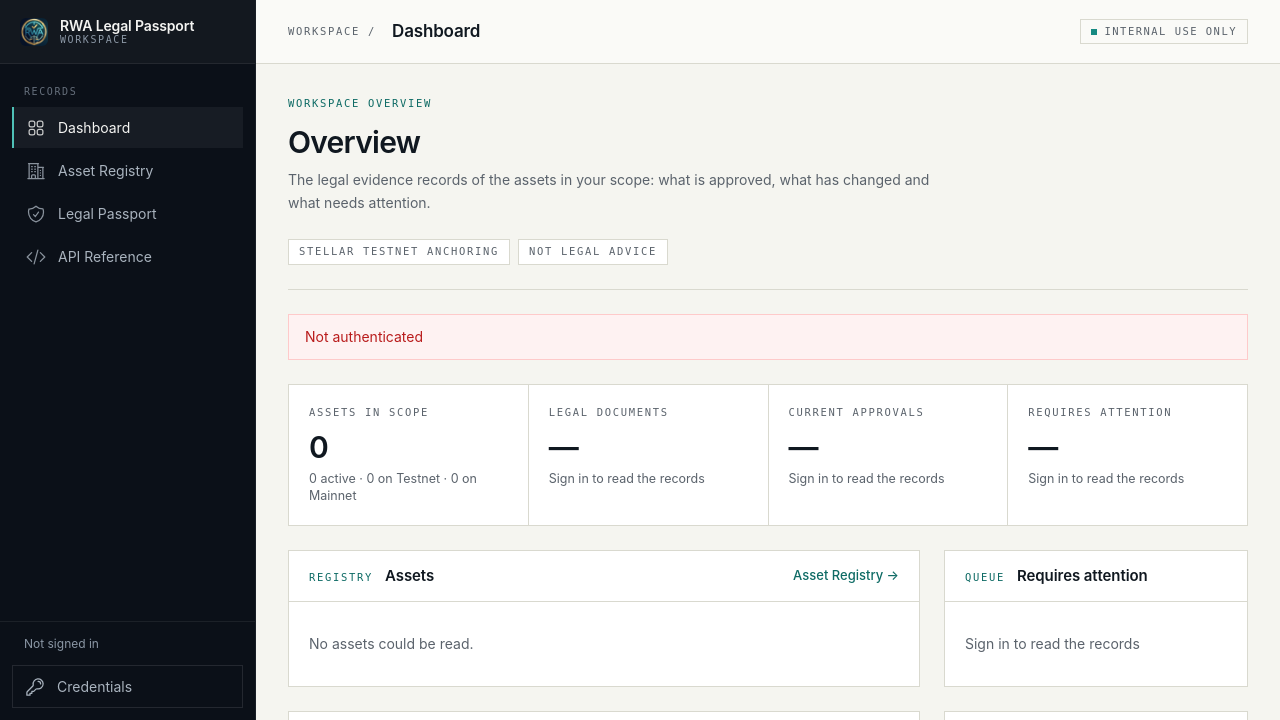
Scenario: Authorization state › the dashboard reloads when a credential is entered, without navigating
Check: the message "Not authenticated" is shown, box [288,314,1248,360]
Step 1. Click the button "Credentials" → {"x": 128, "y": 686}, box [12,665,243,708]
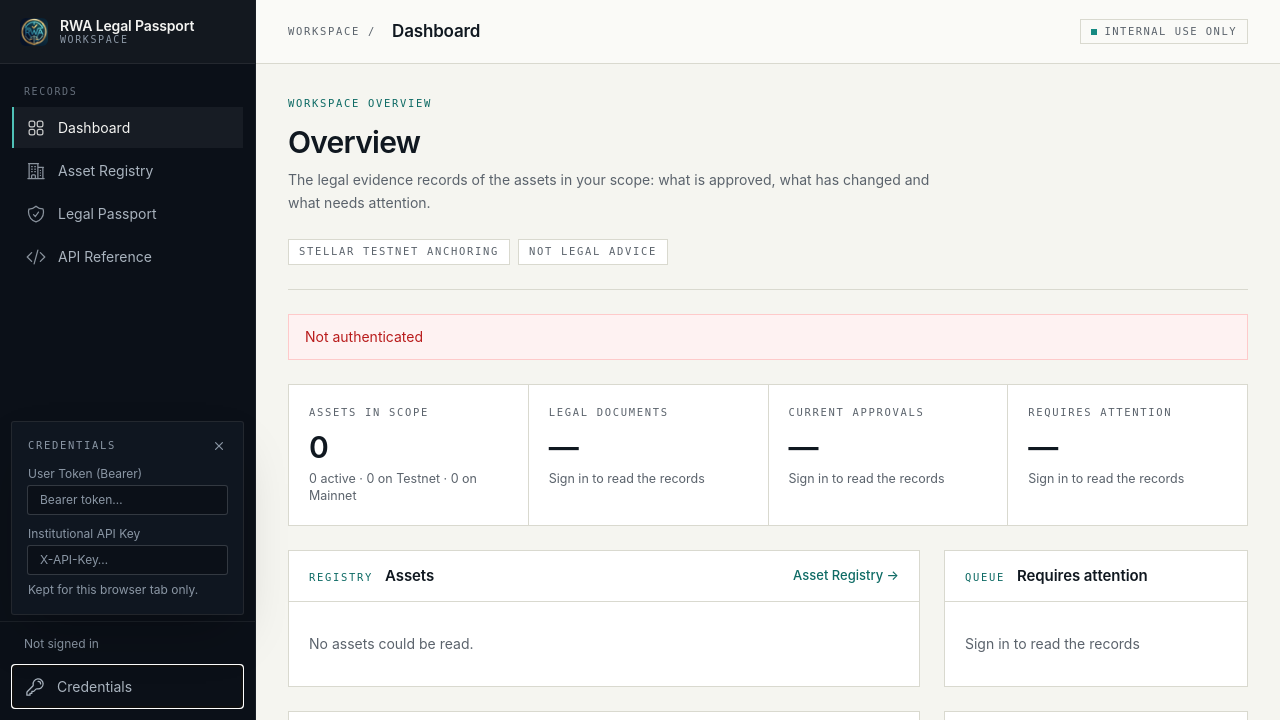
Step 2. Type "fictional-token" into the password field labelled "User Token (Bearer)" → {"x": 128, "y": 500}, box [28,486,227,514]
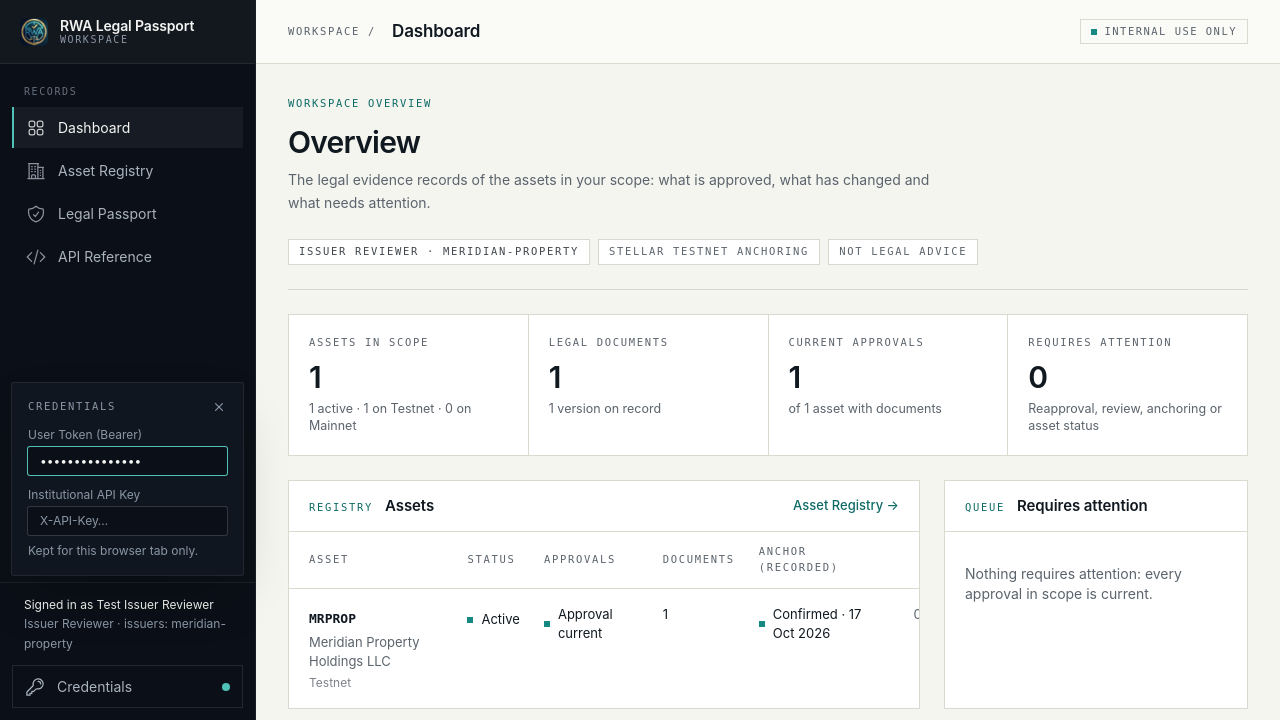
Check: the text "Not authenticated" is gone
Check: the link "MRPROP" is shown, box [309,611,356,626]
